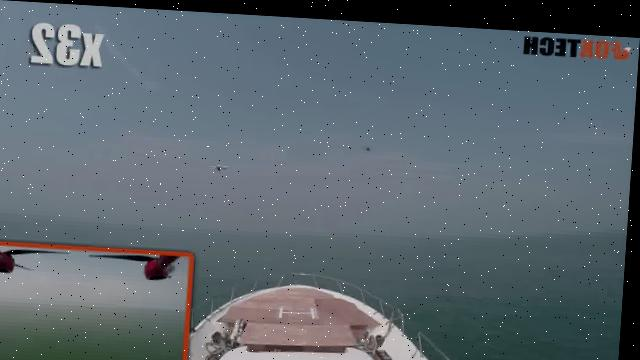drone: (210, 145, 234, 175), (360, 134, 379, 157)
